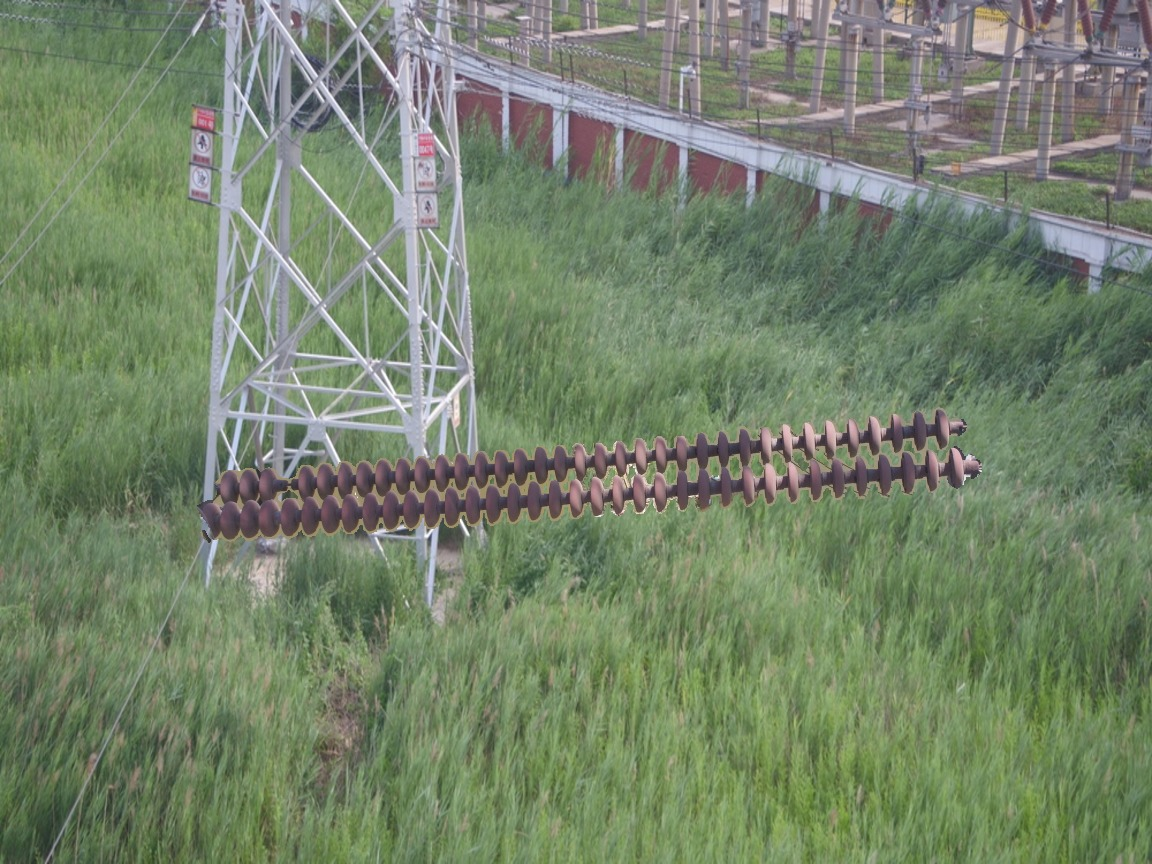defect: (256, 465, 315, 502)
